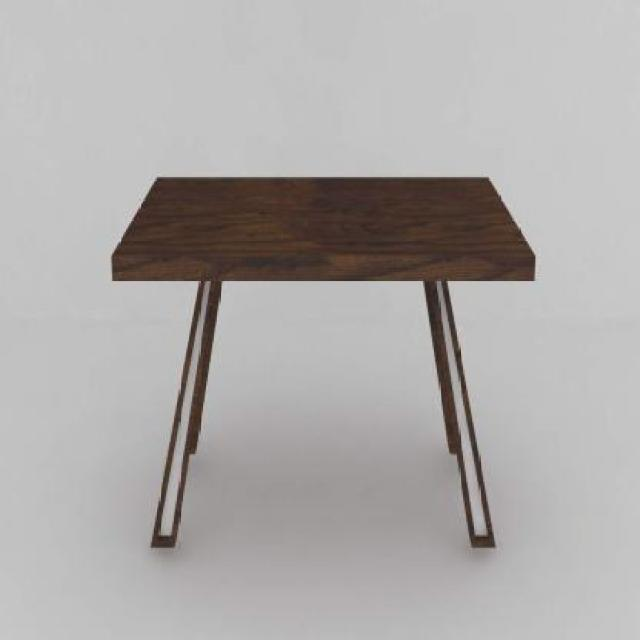table: (110, 173, 536, 549)
